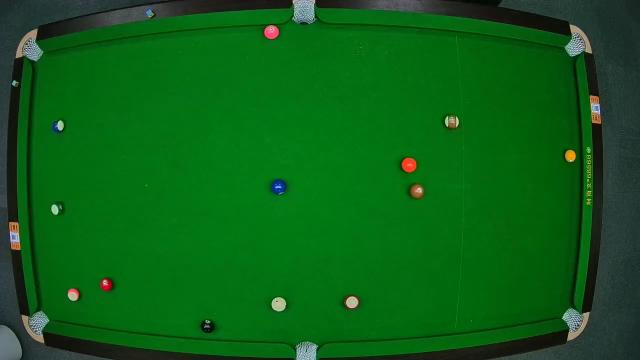bag1: (20, 39, 40, 61)
bag2: (292, 0, 316, 26)
bag3: (567, 36, 587, 58)
bag4: (28, 310, 46, 334)
bag5: (295, 340, 319, 360)
bag6: (561, 308, 583, 332)
ball0: (271, 297, 287, 313)
ball1: (566, 150, 576, 162)
ball10: (51, 120, 64, 132)
ball11: (344, 294, 358, 310)
ball12: (66, 288, 80, 302)
ball14: (51, 201, 64, 214)
ball15: (444, 115, 460, 129)
ball2: (270, 180, 286, 196)
ball3: (100, 277, 112, 291)
ball4: (264, 24, 280, 40)
ball5: (401, 157, 417, 173)
ball7: (408, 184, 424, 198)
ball8: (200, 318, 213, 334)
